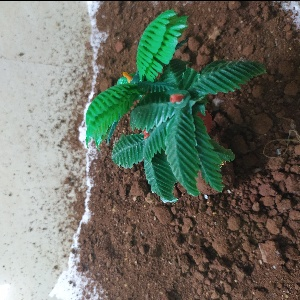plant: (64, 9, 241, 205)
